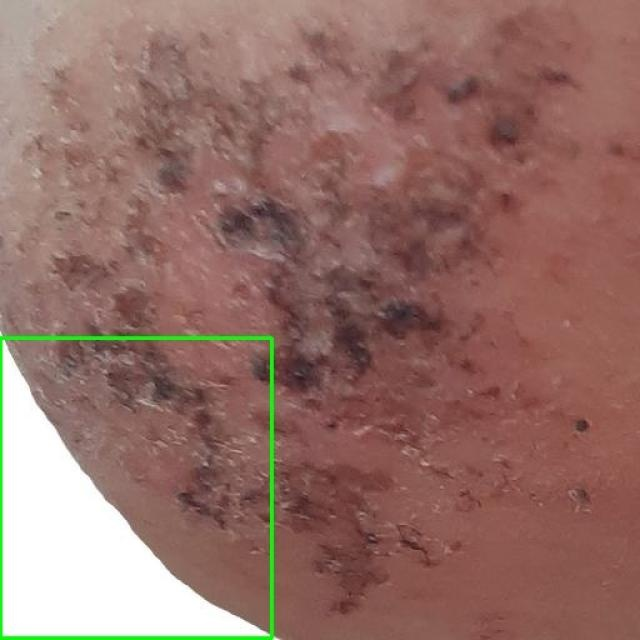Contact Dermatitis: (0, 339, 272, 639)
